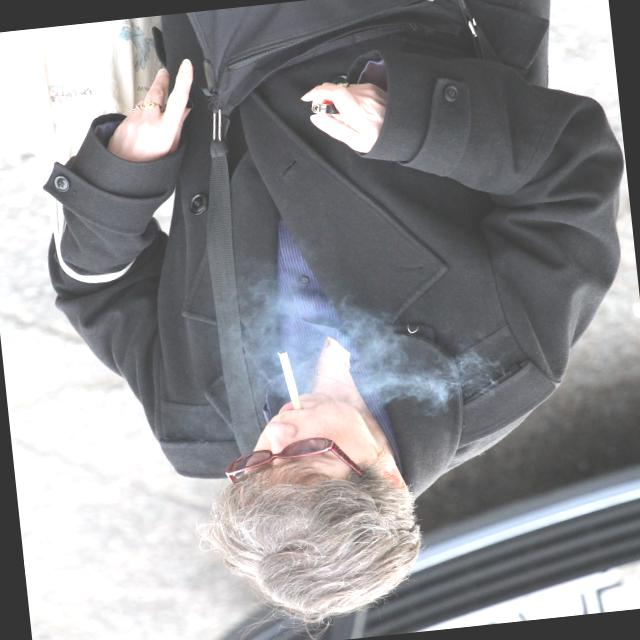smoke: (270, 346, 318, 412)
